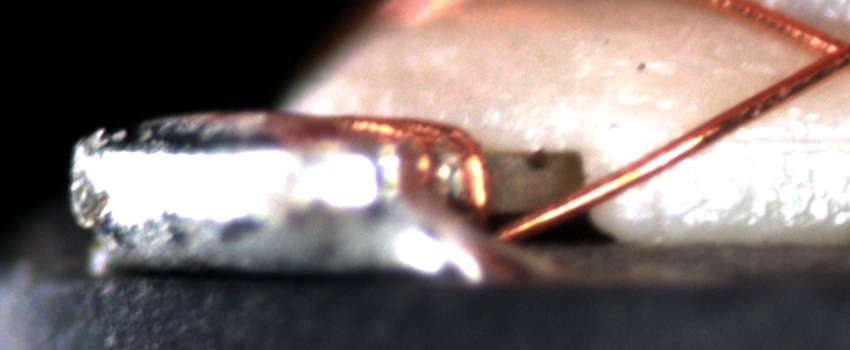DL: (722, 121, 850, 163)
TE: (298, 106, 497, 223)
